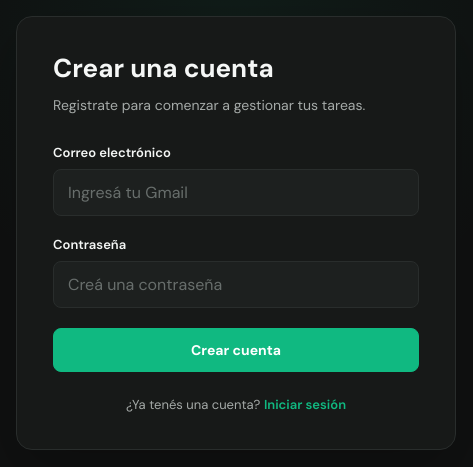
Test: Register Component › 5. Estado de carga: deshabilita inputs y muestra "Creando cuenta..." mientras el registro está pendiente
This screenshot has width=473, height=467.
Type "user@example.com" into the field labelled "Correo electrónico".
click(236, 192); type("user@example.com")  # box [53, 169, 419, 216]
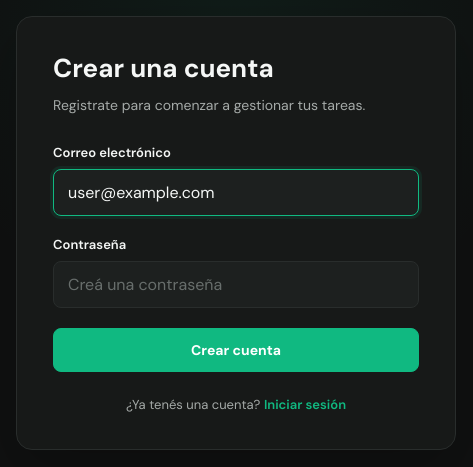
Type "password123" into the password field labelled "Contraseña".
click(236, 284); type("password123")  # box [53, 261, 419, 308]
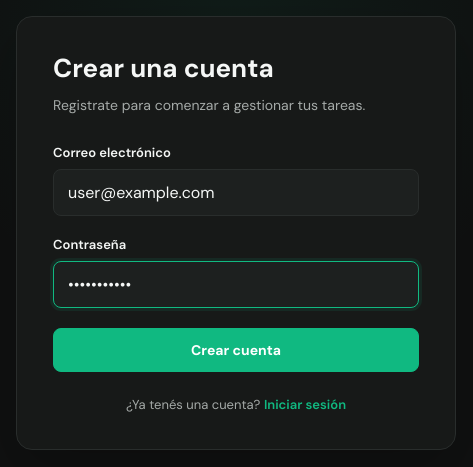
Click the button "Crear cuenta".
click(236, 350)  # box [53, 328, 419, 372]
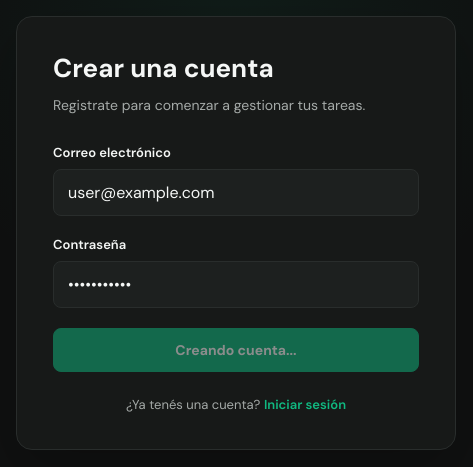
Check: the field labelled "Correo electrónico" is disabled, box [53, 169, 419, 216]
Check: the button "Creando cuenta..." is disabled, box [53, 328, 419, 372]
